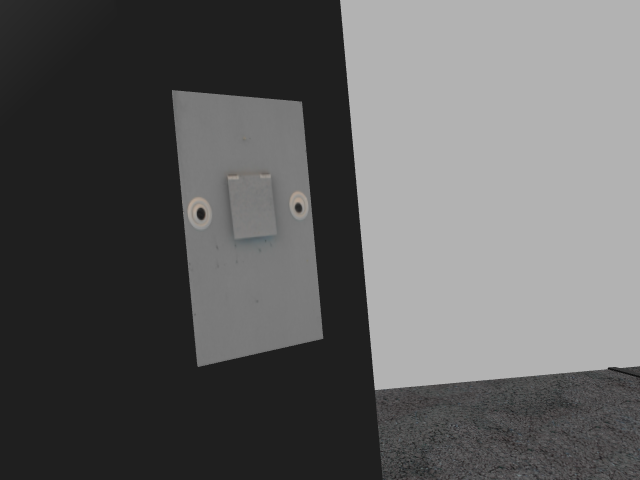facade: (184, 170, 309, 244)
